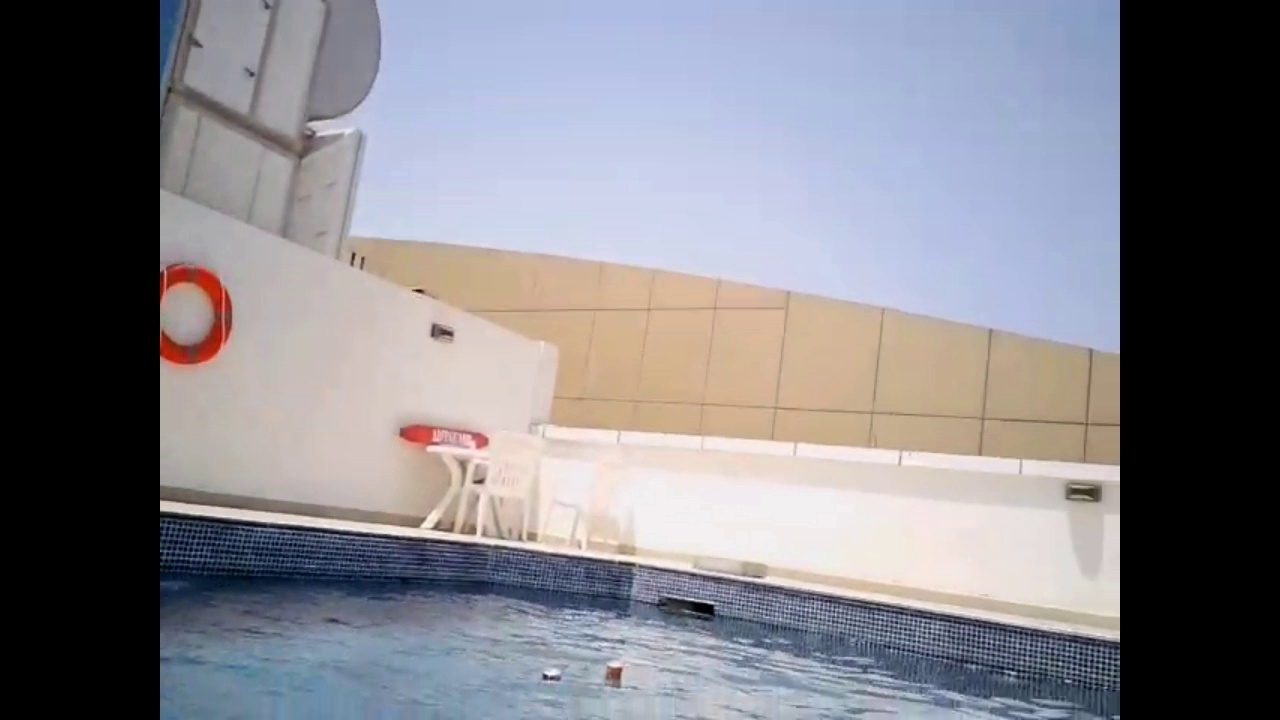debris: (601, 655, 627, 687), (538, 663, 566, 686)
